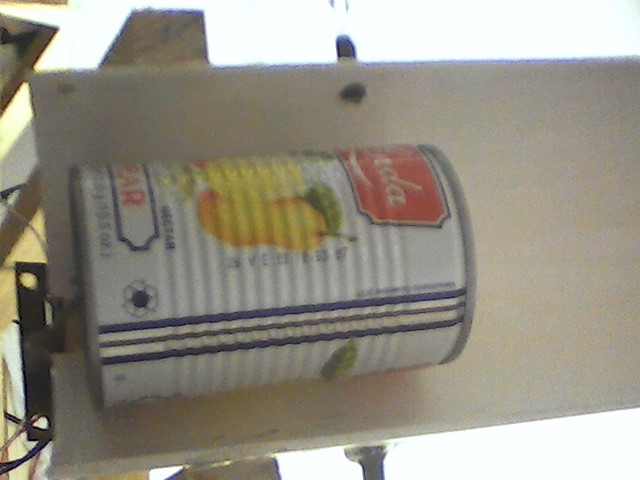lata: (62, 140, 487, 418)
